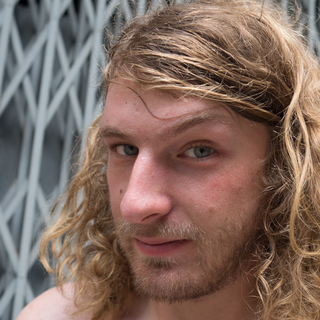eye: (175, 135, 224, 167), (107, 136, 149, 165)
